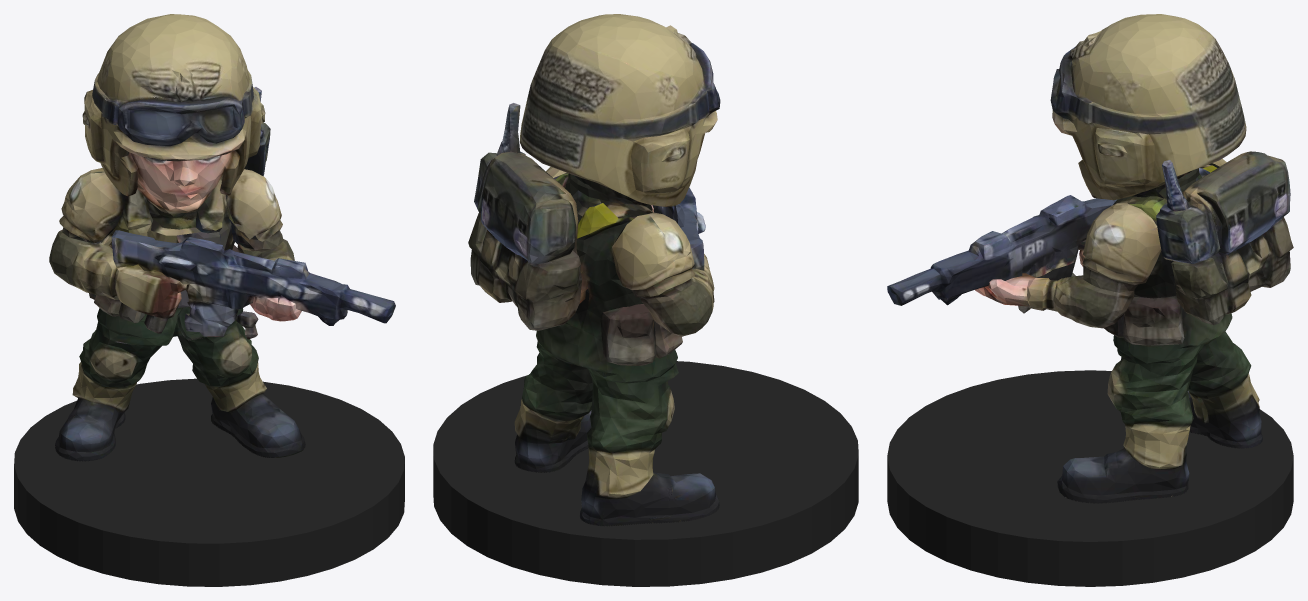
Rendered from cadian-trooper.glb.
The picture shows the model from 3 angles, left to right: view 1: azimuth 30°, elevation 25°; view 2: azimuth 150°, elevation 25°; view 3: azimuth 270°, elevation 25°; orthographic projection. The views are drawn at different scales.
Visible parts, largest first — view 1: figure, base; view 2: figure, base; view 3: figure, base.
Part boxes in pixels (bbox=[...]): figure: bbox=[49, 14, 395, 461]; base: bbox=[14, 378, 404, 586]; figure: bbox=[468, 14, 720, 526]; base: bbox=[433, 361, 858, 586]; figure: bbox=[887, 14, 1293, 503]; base: bbox=[887, 370, 1293, 586].
Bounding box in the file's own units: 0.9843 × 1.27 × 0.9843.
Materials: 2 (1 with a texture image).
